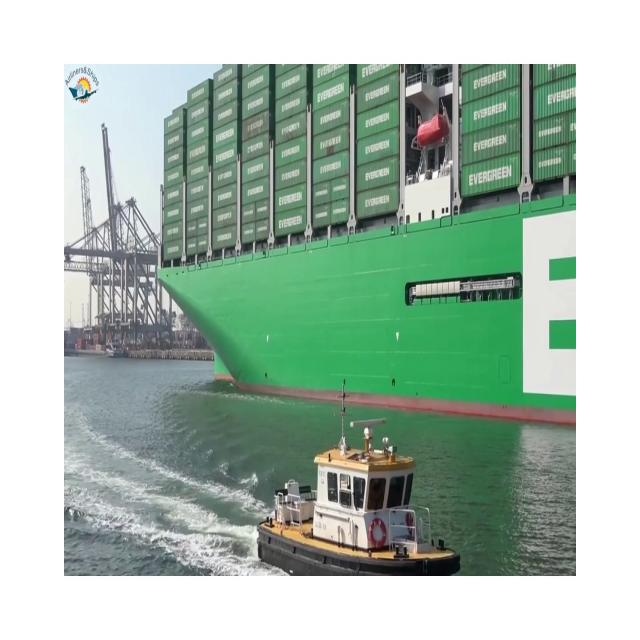OCR: (482, 204, 576, 403)
